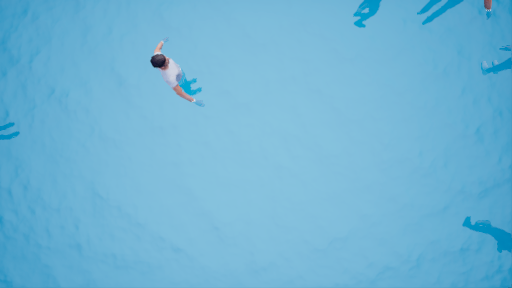person: (142, 36, 205, 107)
